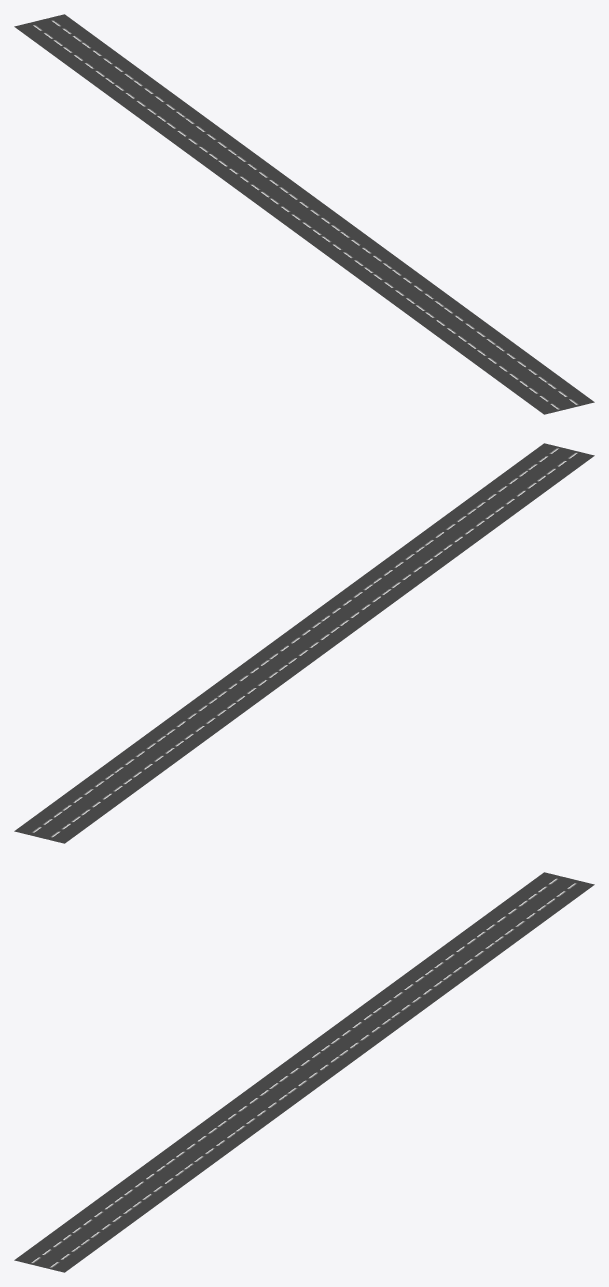
File: Road new 2 cuts (1).fbx
3 views of the same model, one above another, from view 1: azimuth 30°, elevation 25°; view 2: azimuth 150°, elevation 25°; view 3: azimuth 330°, elevation 25° (orthographic).
Visible parts, largest first — view 1: pPlane1; view 2: pPlane1; view 3: pPlane1.
Boxes of the visible parts, x1,y1,x2,y2 form: pPlane1: (14,14,594,414); pPlane1: (14,443,594,843); pPlane1: (14,872,594,1272).
Bounding box in the file's own units: 9.46 × 0 × 171.
1 material, 1 textured.
